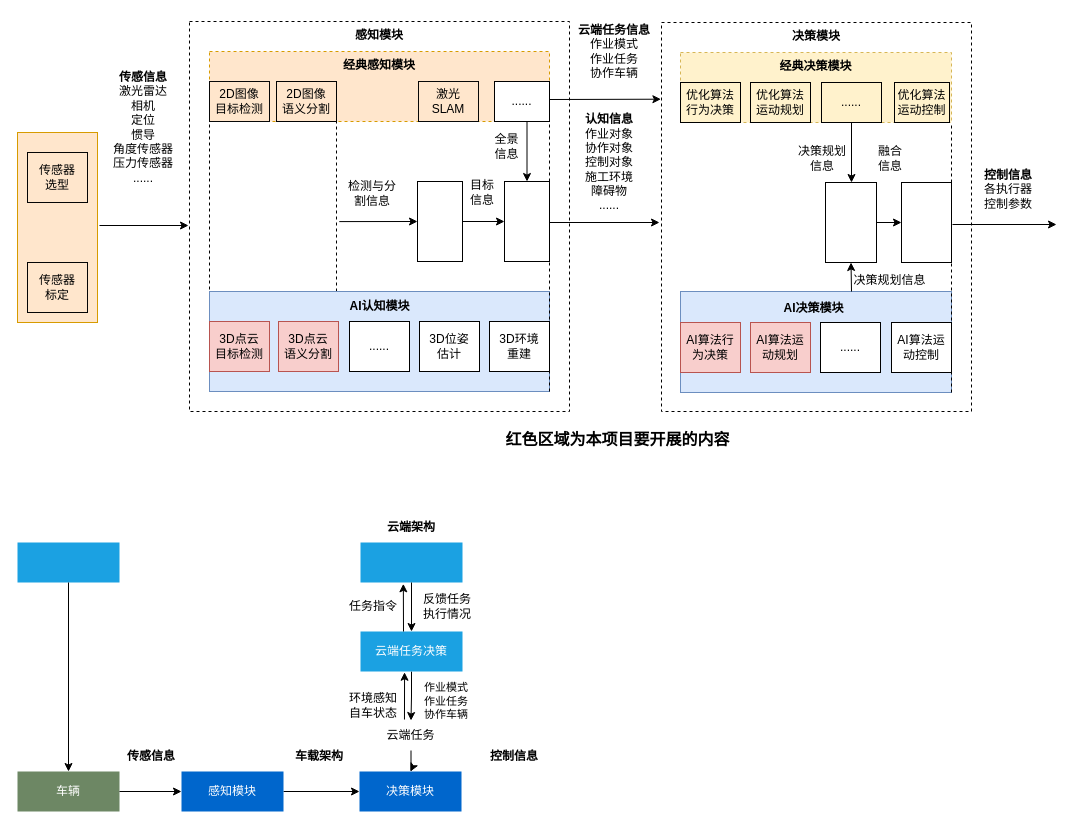
Image size: 1082x828. Some labels were removed from this diagram. Here are the shapes that lost their labels. From the top down, the centre of each, then its label:
[439,221]: 感知 融合
[527,221]: 前后 景分 离
[850,222]: 融合 决策
[926,222]: 控制 执行
[68,562]: 云端
[411,562]: 施工大系统
